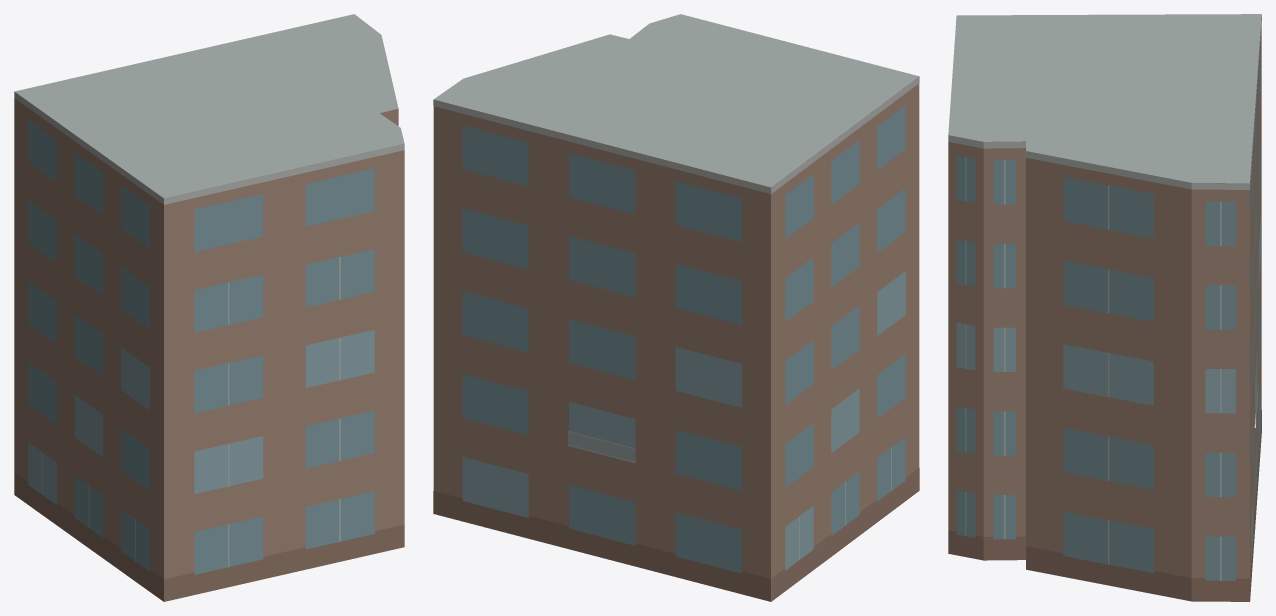
File: survey-upis-32925350.glb
3 renders of one model, left to right at view 1: azimuth 30°, elevation 25°; view 2: azimuth 150°, elevation 25°; view 3: azimuth 270°, elevation 25°, orthographic. The views are drawn at different scales.
Visible parts, largest first — view 1: survey-upis-32925350.tmp; view 2: survey-upis-32925350.tmp; view 3: survey-upis-32925350.tmp.
Boxes of the visible parts, x1,y1,x2,y2 form: survey-upis-32925350.tmp: [14, 14, 404, 601]; survey-upis-32925350.tmp: [433, 14, 919, 601]; survey-upis-32925350.tmp: [948, 14, 1261, 601].
Size of the model in its own units: 13.24 by 15.25 by 10.36.
